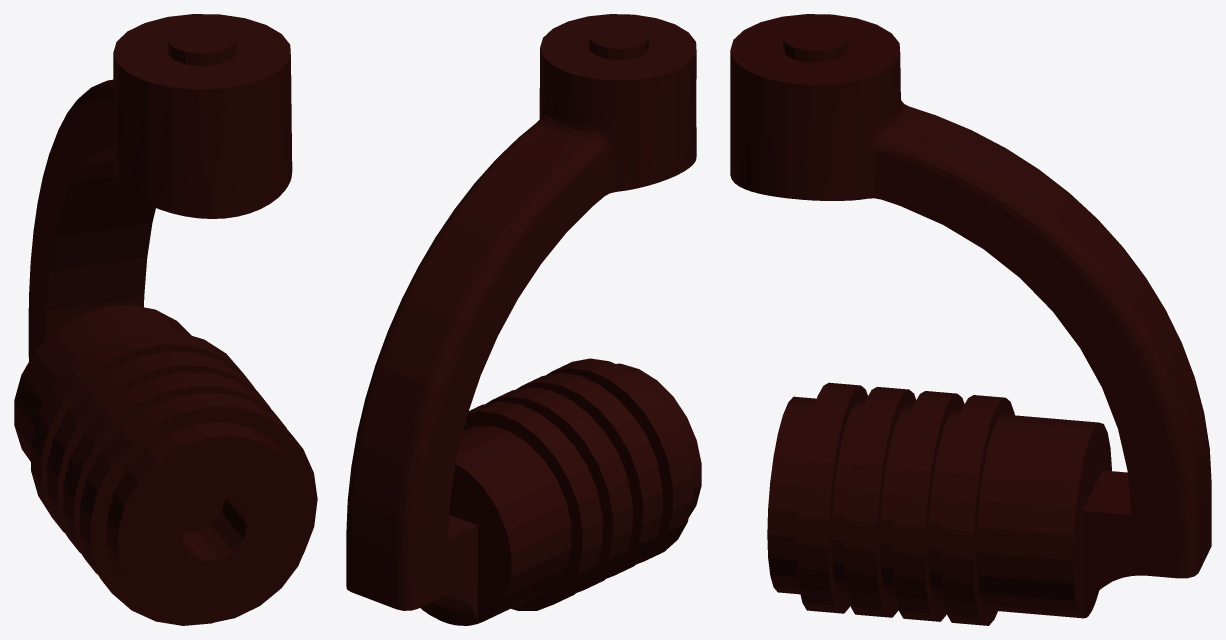
File: Mars6Mars_Rover__Curiosity_1_0__-_33_Front_Wheel_Servo_mech.005.dae
3 views of the same model, side by side, from view 1: azimuth 30°, elevation 25°; view 2: azimuth 150°, elevation 25°; view 3: azimuth 270°, elevation 25° (orthographic). The views are drawn at different scales.
Parts seen in each view (by area): view 1: tmp_export_Mars6Mars_Rover__Curiosity_1_0__-_33_Front_Wheel_; view 2: tmp_export_Mars6Mars_Rover__Curiosity_1_0__-_33_Front_Wheel_; view 3: tmp_export_Mars6Mars_Rover__Curiosity_1_0__-_33_Front_Wheel_.
Part boxes in pixels (box(x1,y1,x2,y2)): tmp_export_Mars6Mars_Rover__Curiosity_1_0__-_33_Front_Wheel_: box(14, 14, 317, 625); tmp_export_Mars6Mars_Rover__Curiosity_1_0__-_33_Front_Wheel_: box(346, 14, 701, 625); tmp_export_Mars6Mars_Rover__Curiosity_1_0__-_33_Front_Wheel_: box(730, 14, 1211, 625).
Size of the model in its own units: 0.364 by 0.6643 by 0.856.
